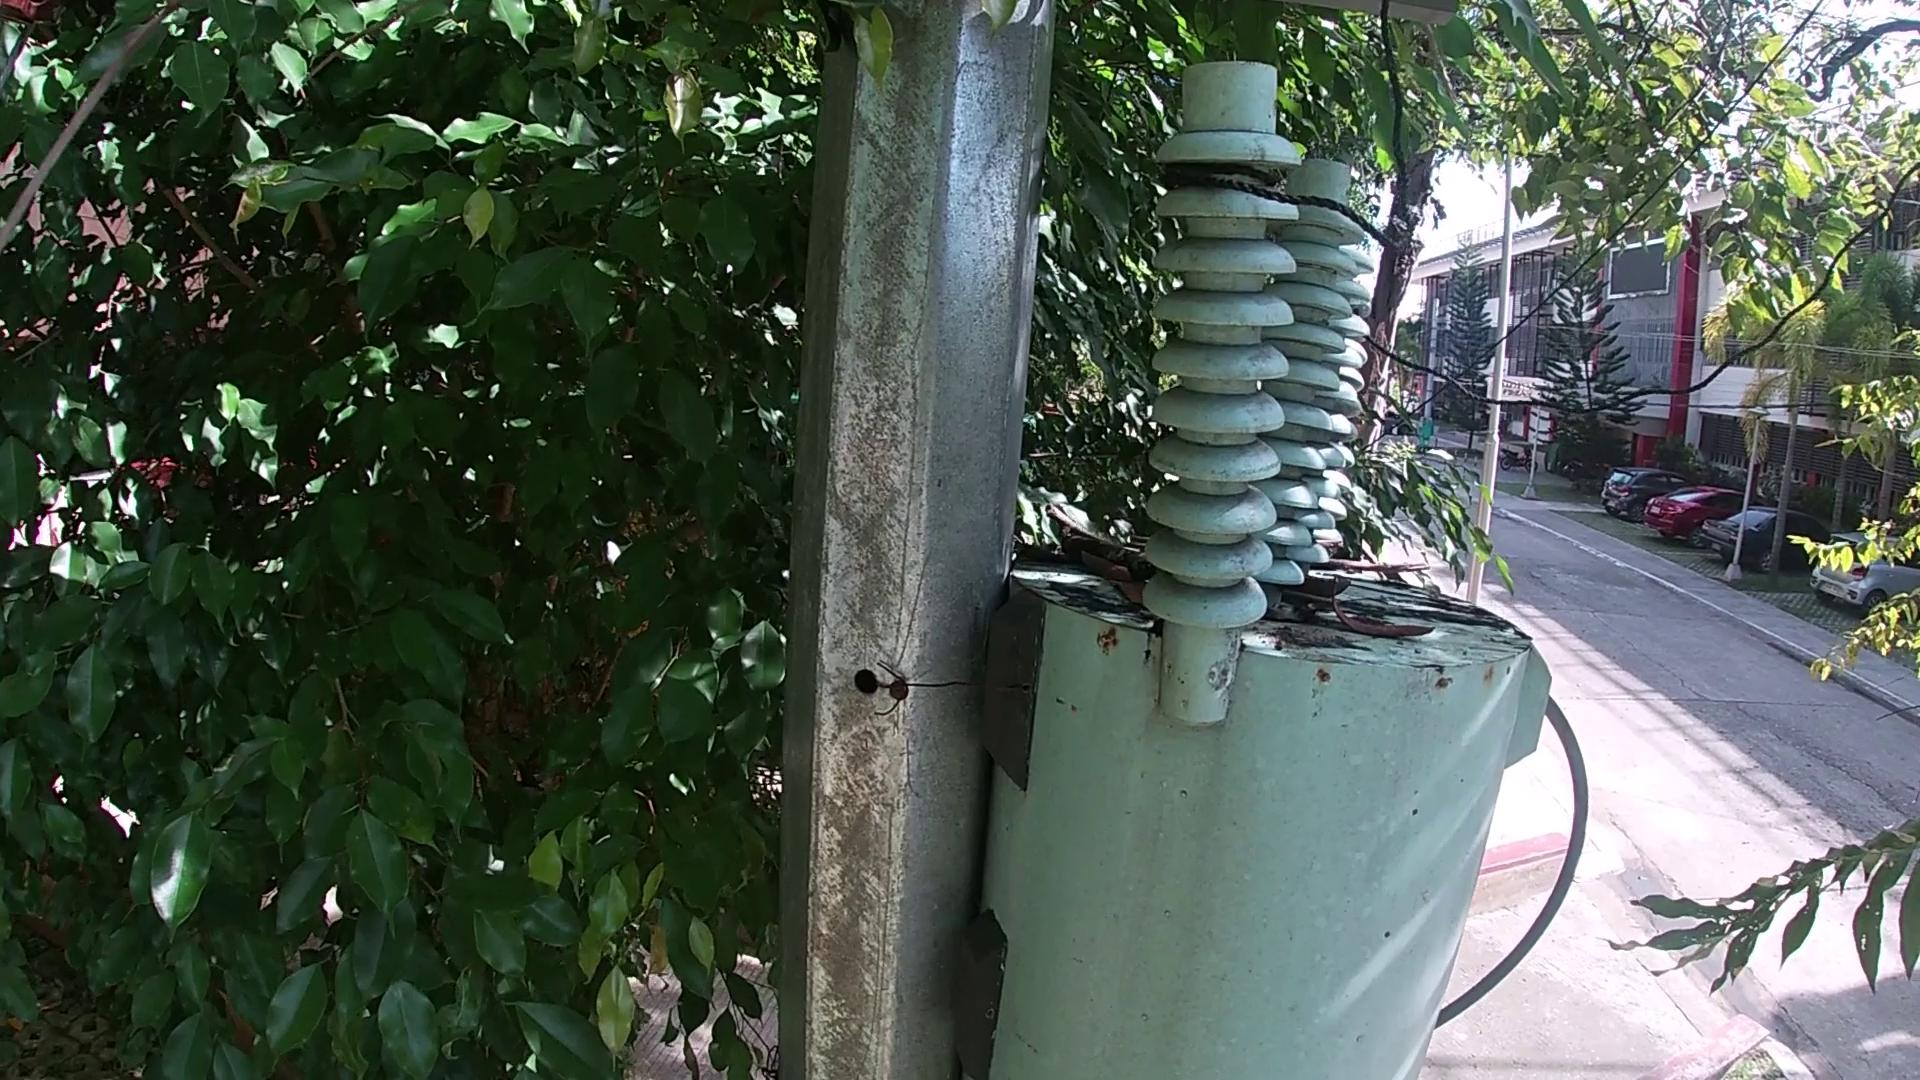leaf: (1120, 580, 1153, 622), (1271, 601, 1323, 625)
mahogany fruit: (1331, 600, 1437, 636), (1300, 571, 1364, 593)
tree branch: (1052, 526, 1149, 568), (1046, 504, 1145, 541), (1324, 556, 1436, 580), (1284, 589, 1327, 604)
